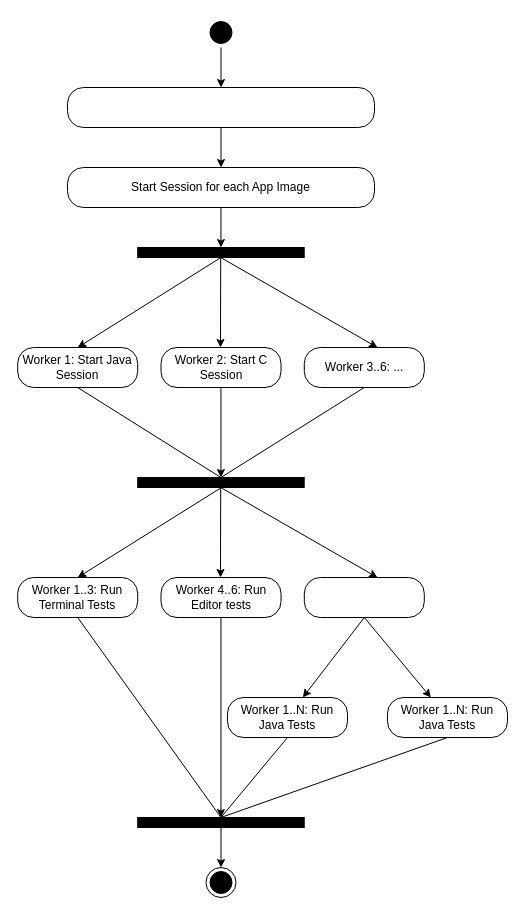
Image size: 525x915. Some labels were removed from this diagram. The shapes that lost their labels are listed below. From the top down, each one's centre as x and y in pixels, then its label:
At pixel 220 107: "Save Keycloak Browser State".
At pixel 363 597: "Worker 7..N: ...".
